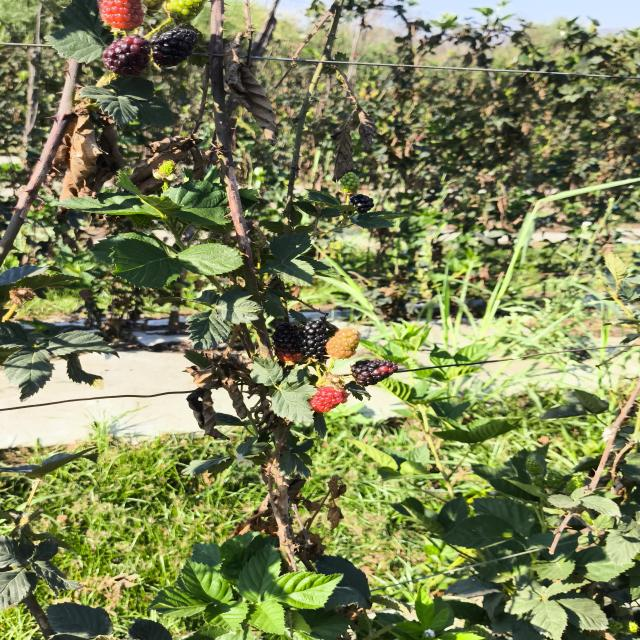maduro: (298, 319, 329, 360)
marron: (351, 360, 398, 387), (273, 323, 302, 362)
naranja: (326, 328, 360, 359), (309, 386, 348, 413)
